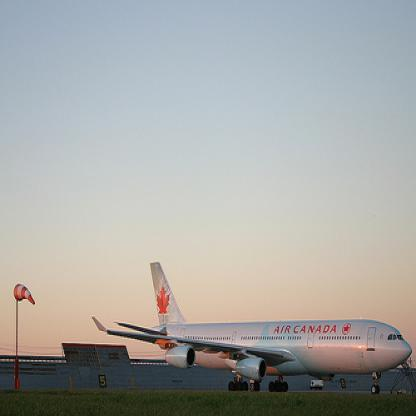aeroplane: (90, 262, 413, 396)
